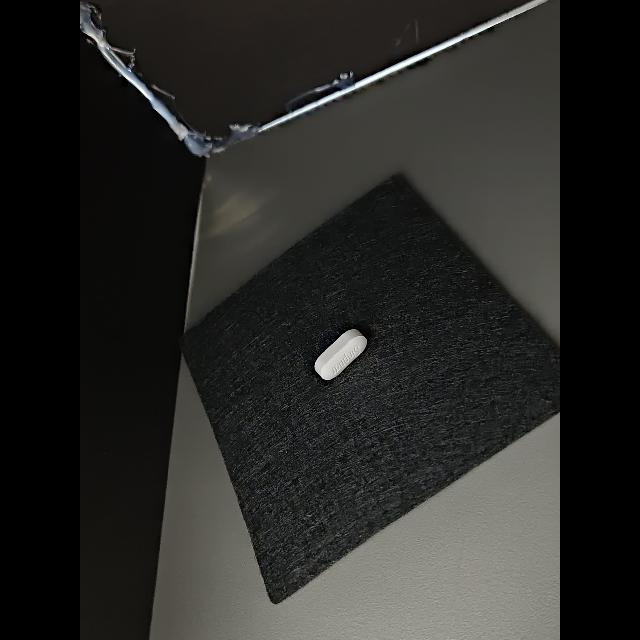Intact Pill: (314, 329, 367, 380)
